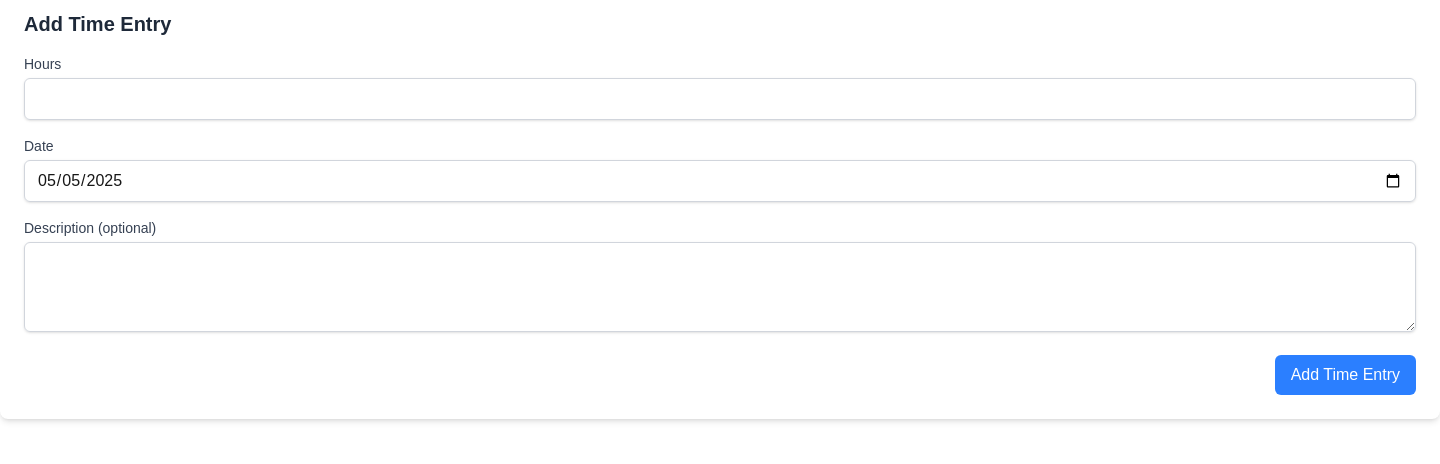
it: TimeEntryForm › displays error when hours is not provided
Type "2025-05-03" into the date field labelled "Date" at [720, 181], box x1=24 y1=160 x2=1416 y2=202
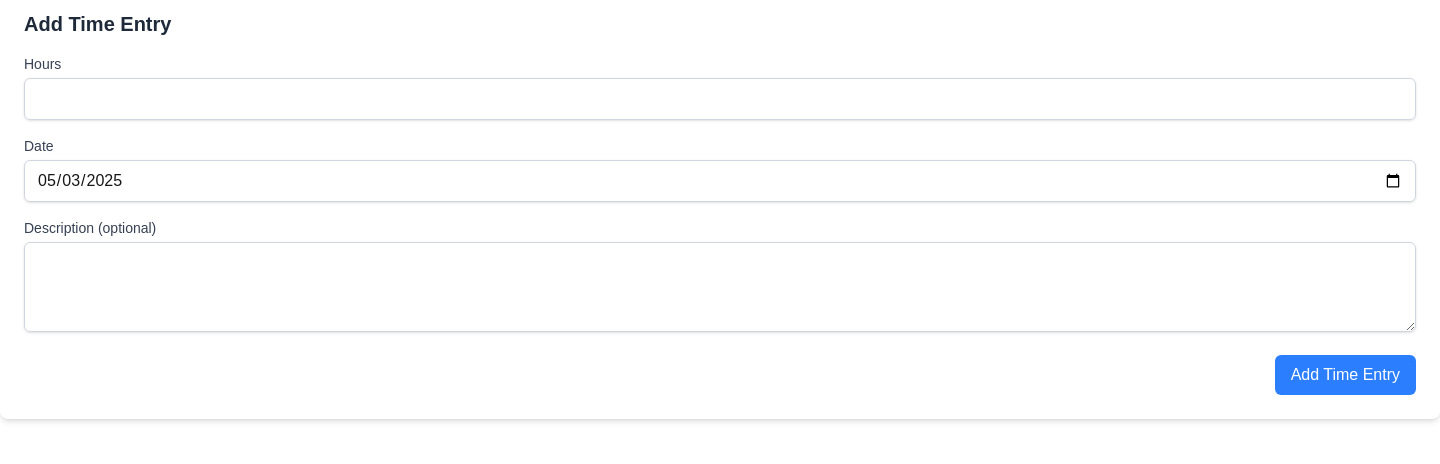
Submit the form with test id "time-entry-form"
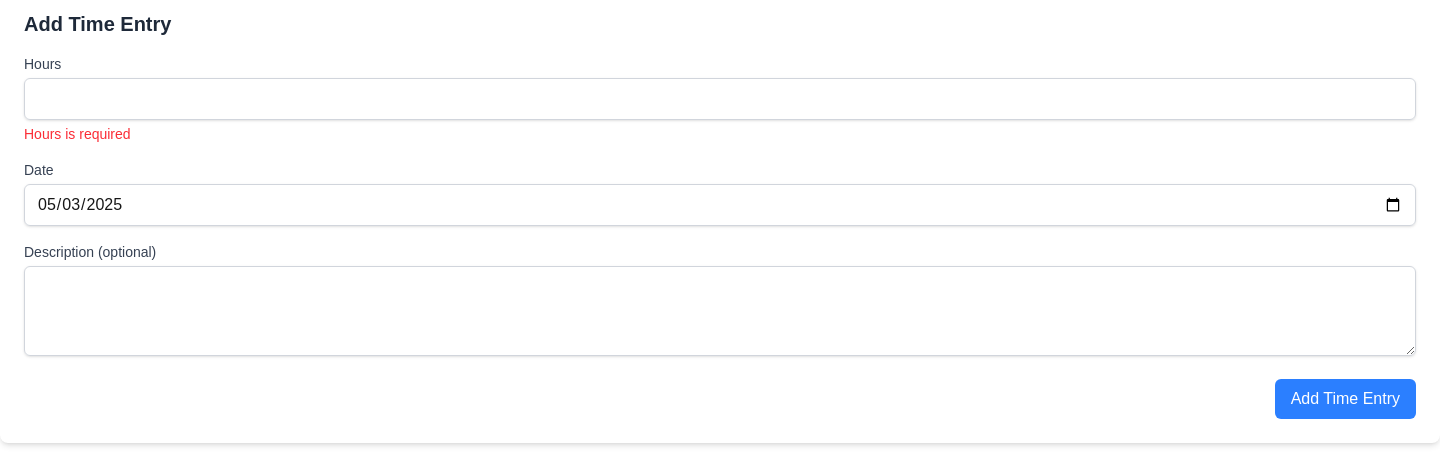
Check: the text "Hours is required" is shown, box x1=24 y1=126 x2=131 y2=142
